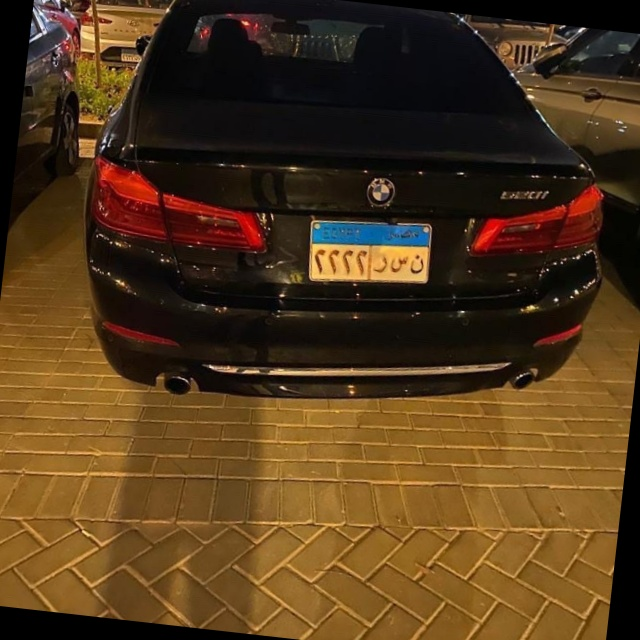License Plate: (299, 210, 438, 295)
